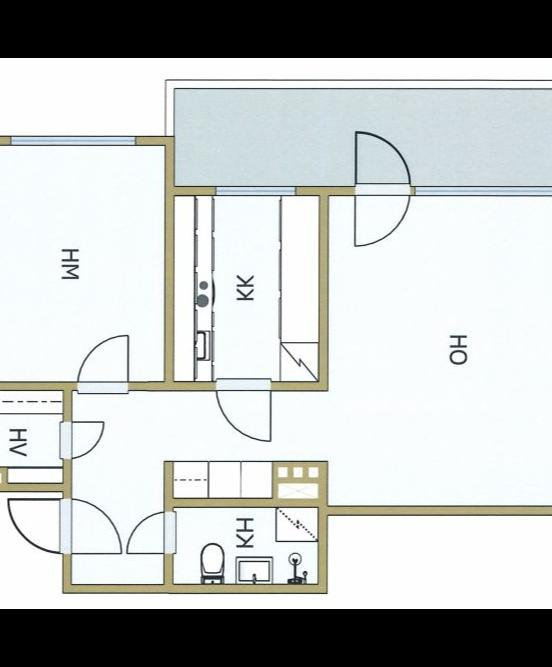door: (349, 126, 414, 197), (214, 375, 274, 445), (57, 495, 124, 557), (6, 494, 72, 555), (351, 184, 412, 248), (74, 330, 128, 397), (125, 511, 177, 556), (60, 416, 106, 465)
window: (408, 180, 552, 201), (3, 132, 141, 149), (208, 182, 302, 199)
